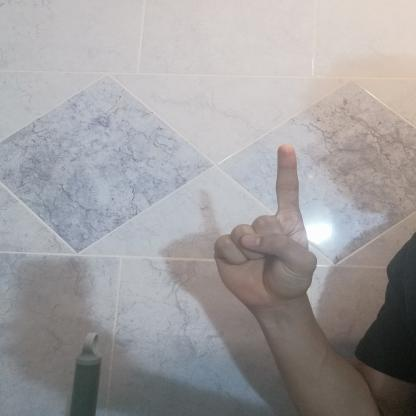BAA: (203, 138, 330, 319)
